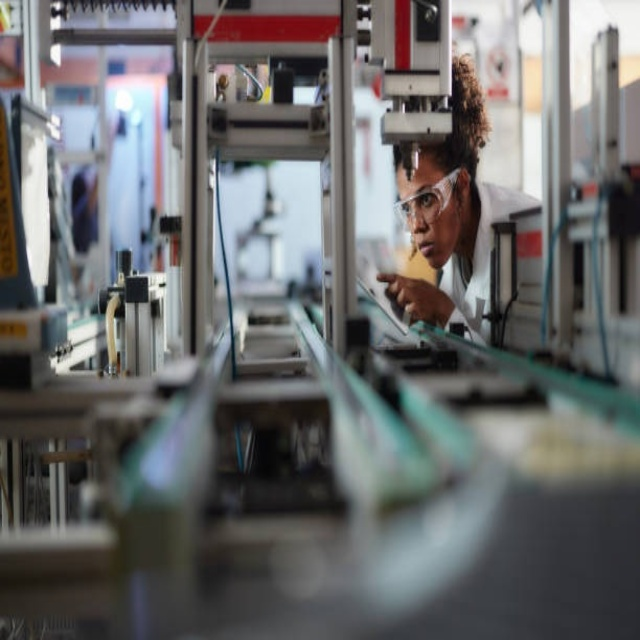Gafas: (395, 167, 462, 230)
Sin_guantes: (374, 267, 448, 322)
Sin_mascara: (418, 240, 436, 257)
